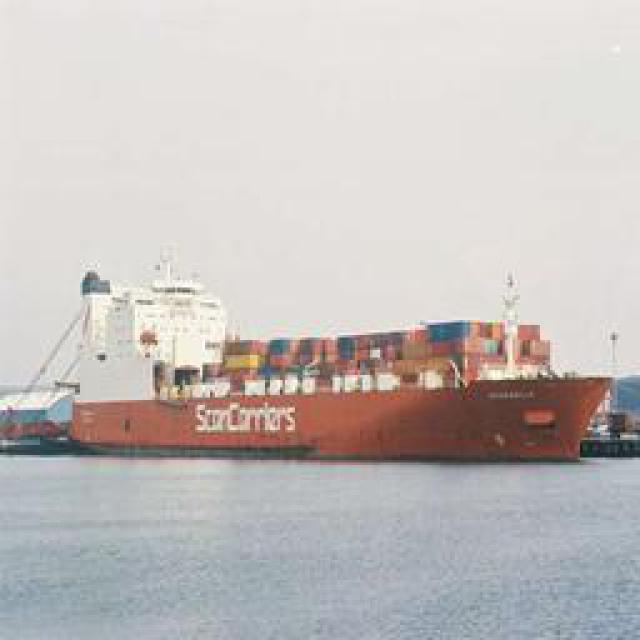Ship: (27, 256, 625, 464)
